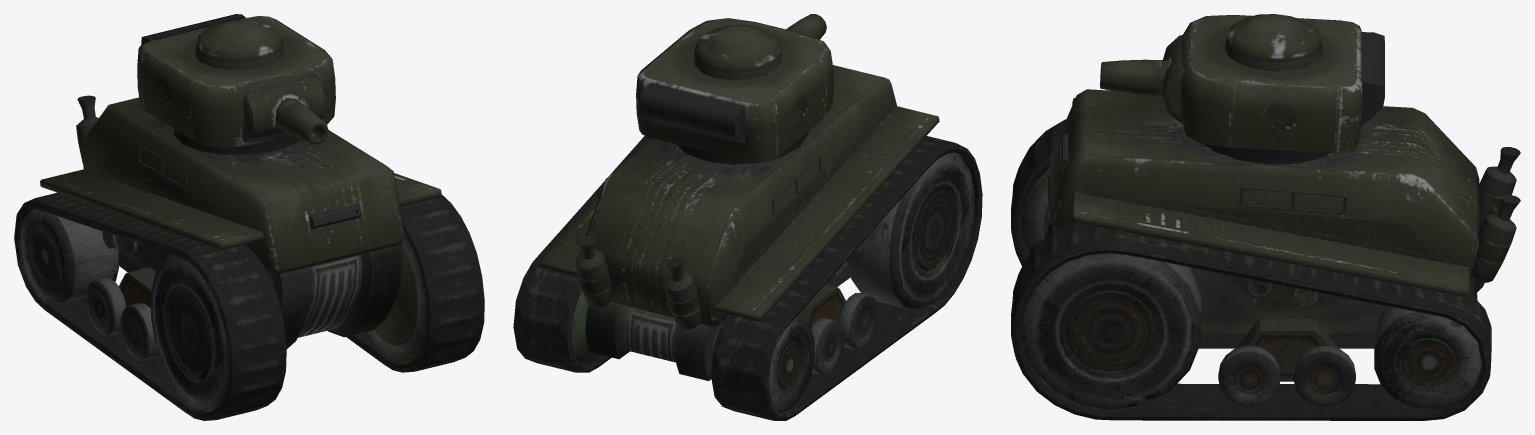
Rendered from tank.glb.
The picture shows the model from 3 angles, left to right: view 1: azimuth 30°, elevation 25°; view 2: azimuth 150°, elevation 25°; view 3: azimuth 270°, elevation 25°; orthographic projection. The views are drawn at different scales.
Visible parts, largest first — view 1: Object_3, Object_2; view 2: Object_3, Object_2; view 3: Object_3, Object_2.
Part boxes in pixels (bbox=[...]): Object_3: bbox=[21, 14, 441, 411]; Object_2: bbox=[14, 98, 484, 420]; Object_3: bbox=[539, 14, 974, 412]; Object_2: bbox=[513, 131, 982, 420]; Object_3: bbox=[1021, 14, 1520, 410]; Object_2: bbox=[1011, 66, 1518, 420].
Bounding box in the file's own units: 188 × 214 × 298.
Materials: 1 (1 with a texture image).
